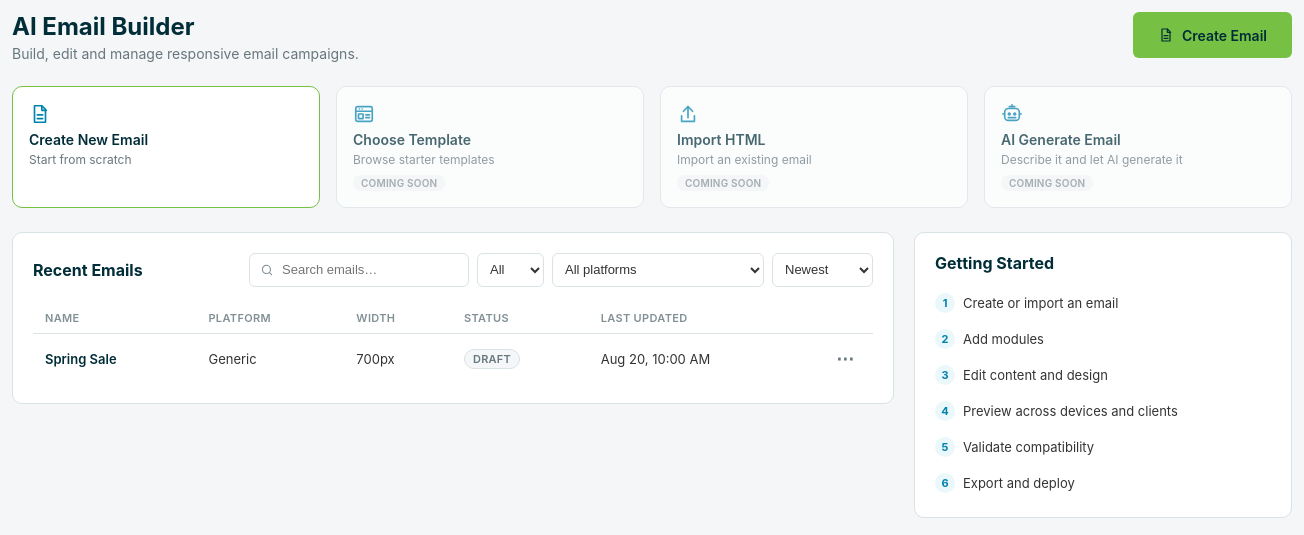
Test: EmailBuilderDashboardPage — search, filter, sort › shows the no-match empty state (not the first-time empty state) when search has no results
Expected: the link "Spring Sale" is shown, [45,350,117,366]
Type "zzz-no-match" into the search field with placeholder "Search emails…" at (370, 270), box [280,261,460,278]
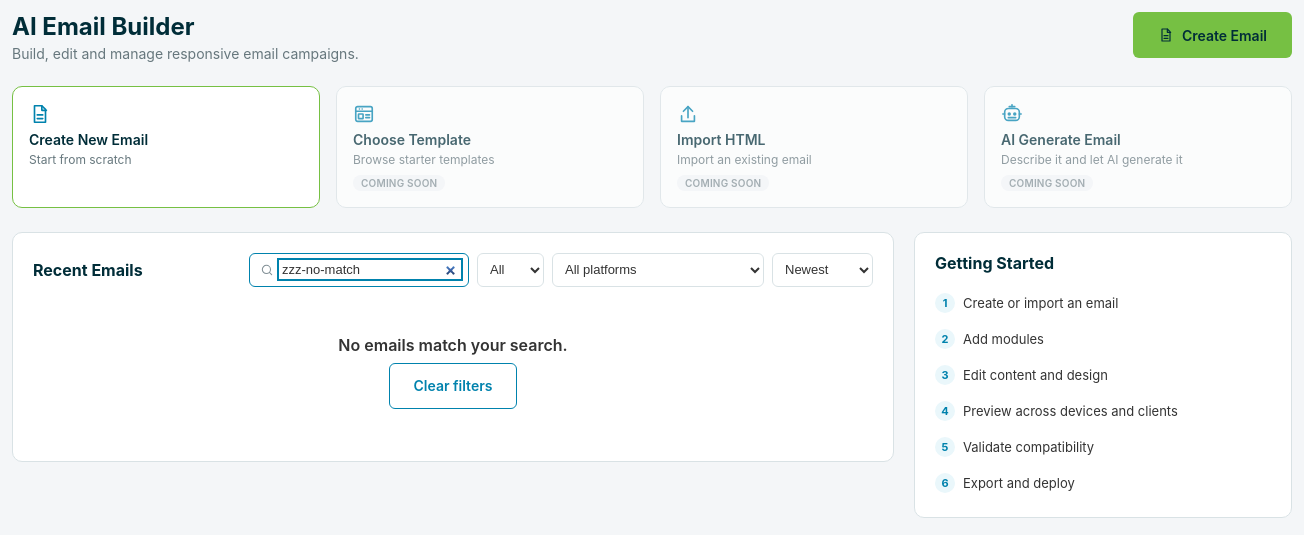
Expected: the text "No emails match your search." is shown, [338,335,568,355]
Click the button "Clear filters" at (453, 386), box [388,363,517,409]
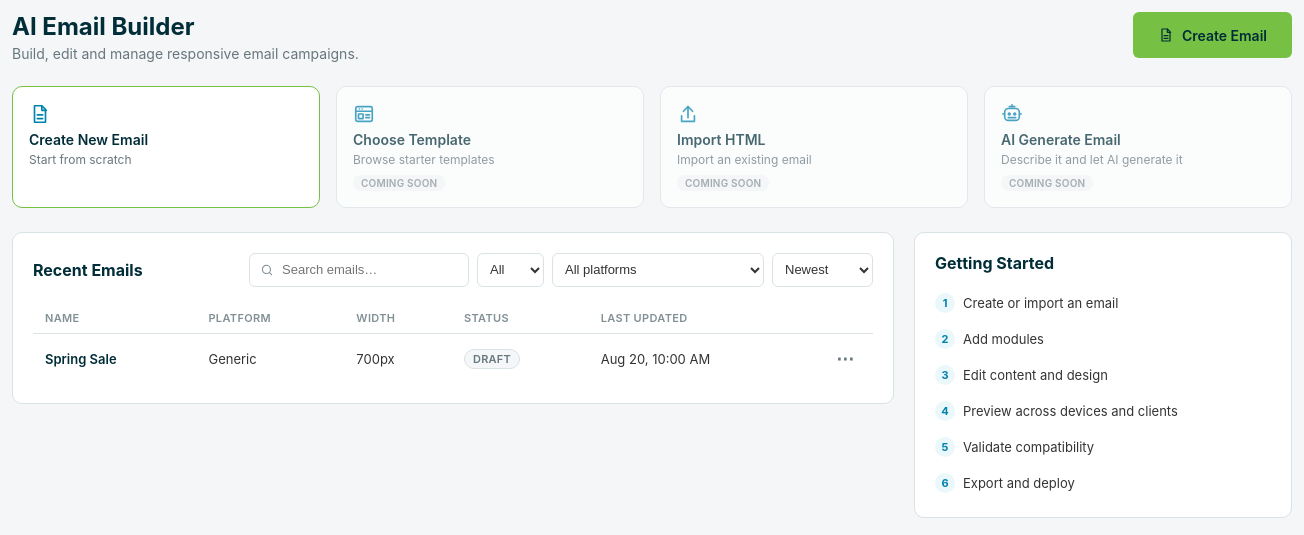
Expected: the link "Spring Sale" is shown, [45,350,117,366]
